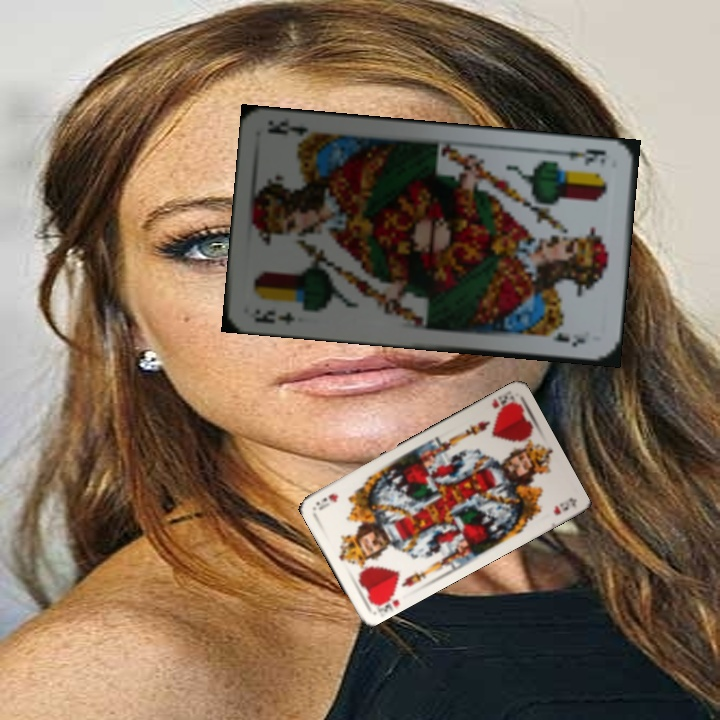EK: (553, 144, 608, 168), (247, 304, 297, 328)
HK: (368, 586, 402, 616), (488, 391, 518, 416)
